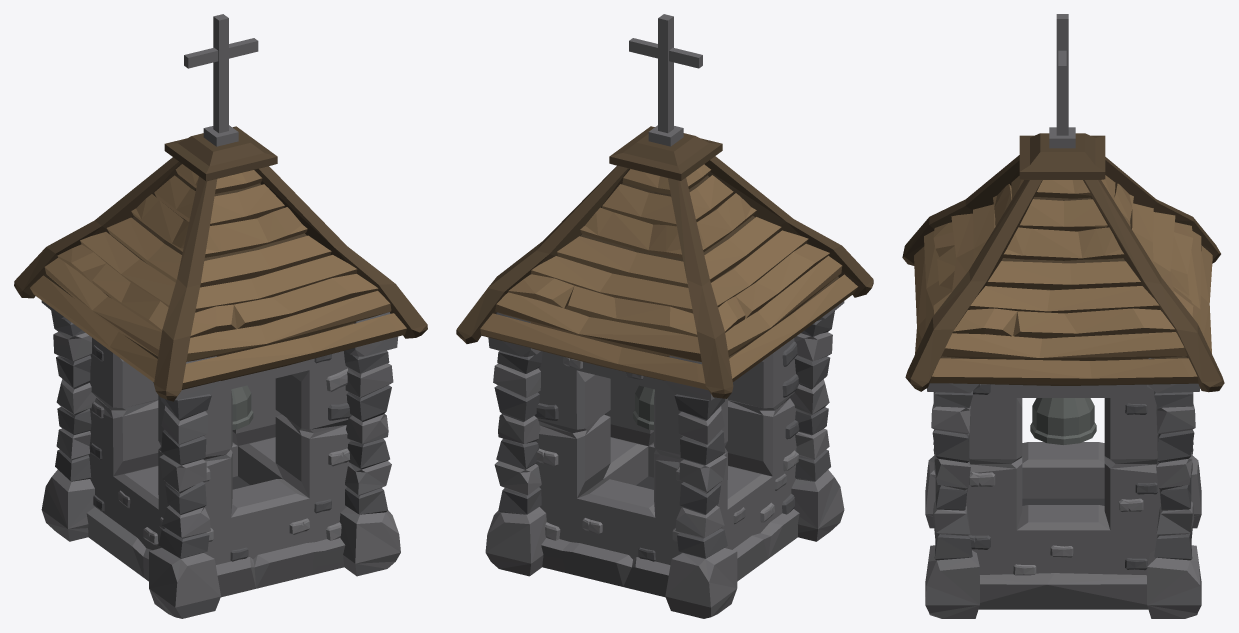
Rendered from SM_Bld_Church_Tower_01.gltf.
3 views of the same model, side by side, from view 1: azimuth 30°, elevation 25°; view 2: azimuth 150°, elevation 25°; view 3: azimuth 270°, elevation 25° (orthographic). The views are drawn at different scales.
Visible parts, largest first — view 1: SM_Bld_Church_Tower_01; view 2: SM_Bld_Church_Tower_01; view 3: SM_Bld_Church_Tower_01.
Boxes of the visible parts, <box> form: SM_Bld_Church_Tower_01: <box>14,14,427,618</box>; SM_Bld_Church_Tower_01: <box>456,14,873,618</box>; SM_Bld_Church_Tower_01: <box>902,14,1224,618</box>.
Bounding box in the file's own units: 3.59 × 6.66 × 3.56.
1 material, 1 textured.
